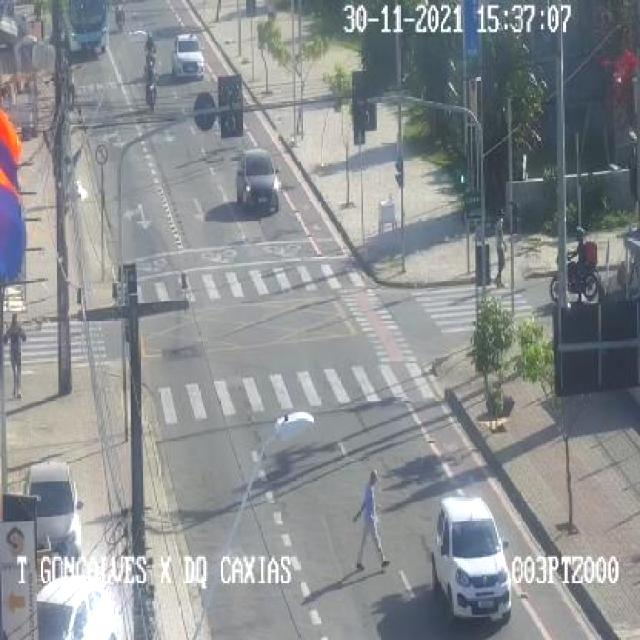Bus: (60, 0, 112, 56)
Car: (430, 497, 514, 627), (24, 462, 85, 560), (36, 578, 120, 640), (235, 149, 279, 213), (171, 34, 204, 80)
Cycle: (549, 247, 602, 299), (144, 82, 158, 110), (143, 44, 156, 73)
